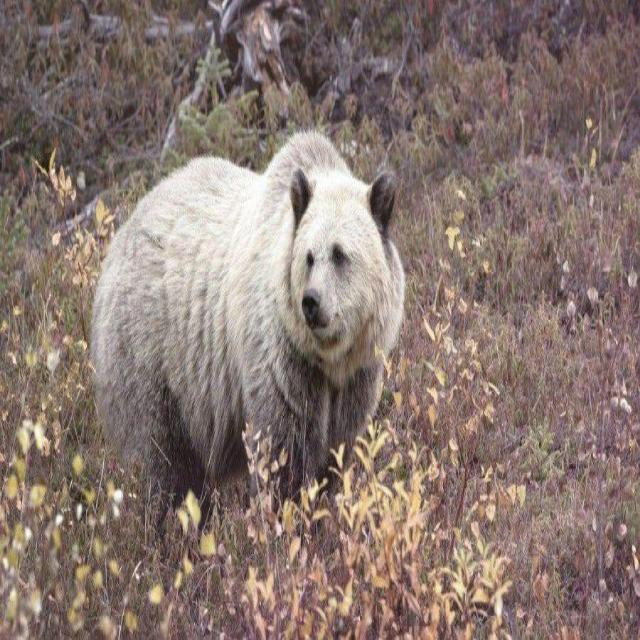Bear: (89, 132, 407, 531)
